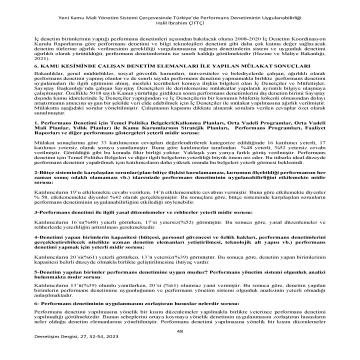header: (54, 14, 306, 28)
